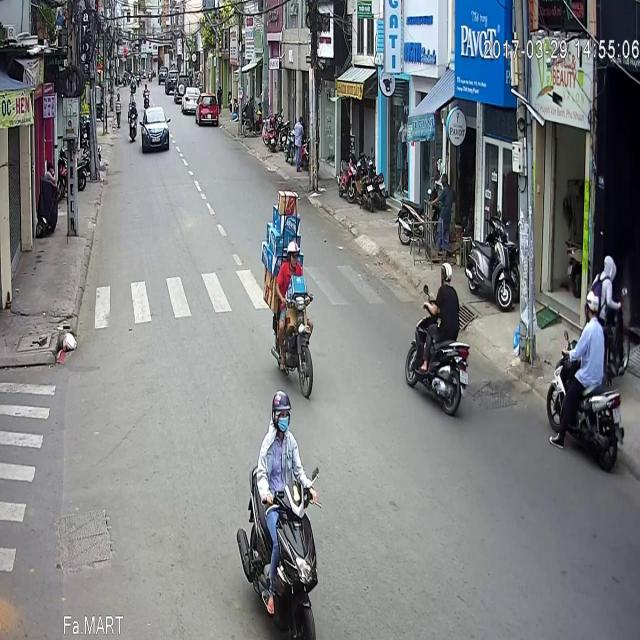car: (139, 47, 171, 96), (194, 34, 218, 68)
motorcycle: (236, 332, 322, 609), (404, 204, 470, 358), (270, 183, 314, 340), (128, 42, 138, 84)
